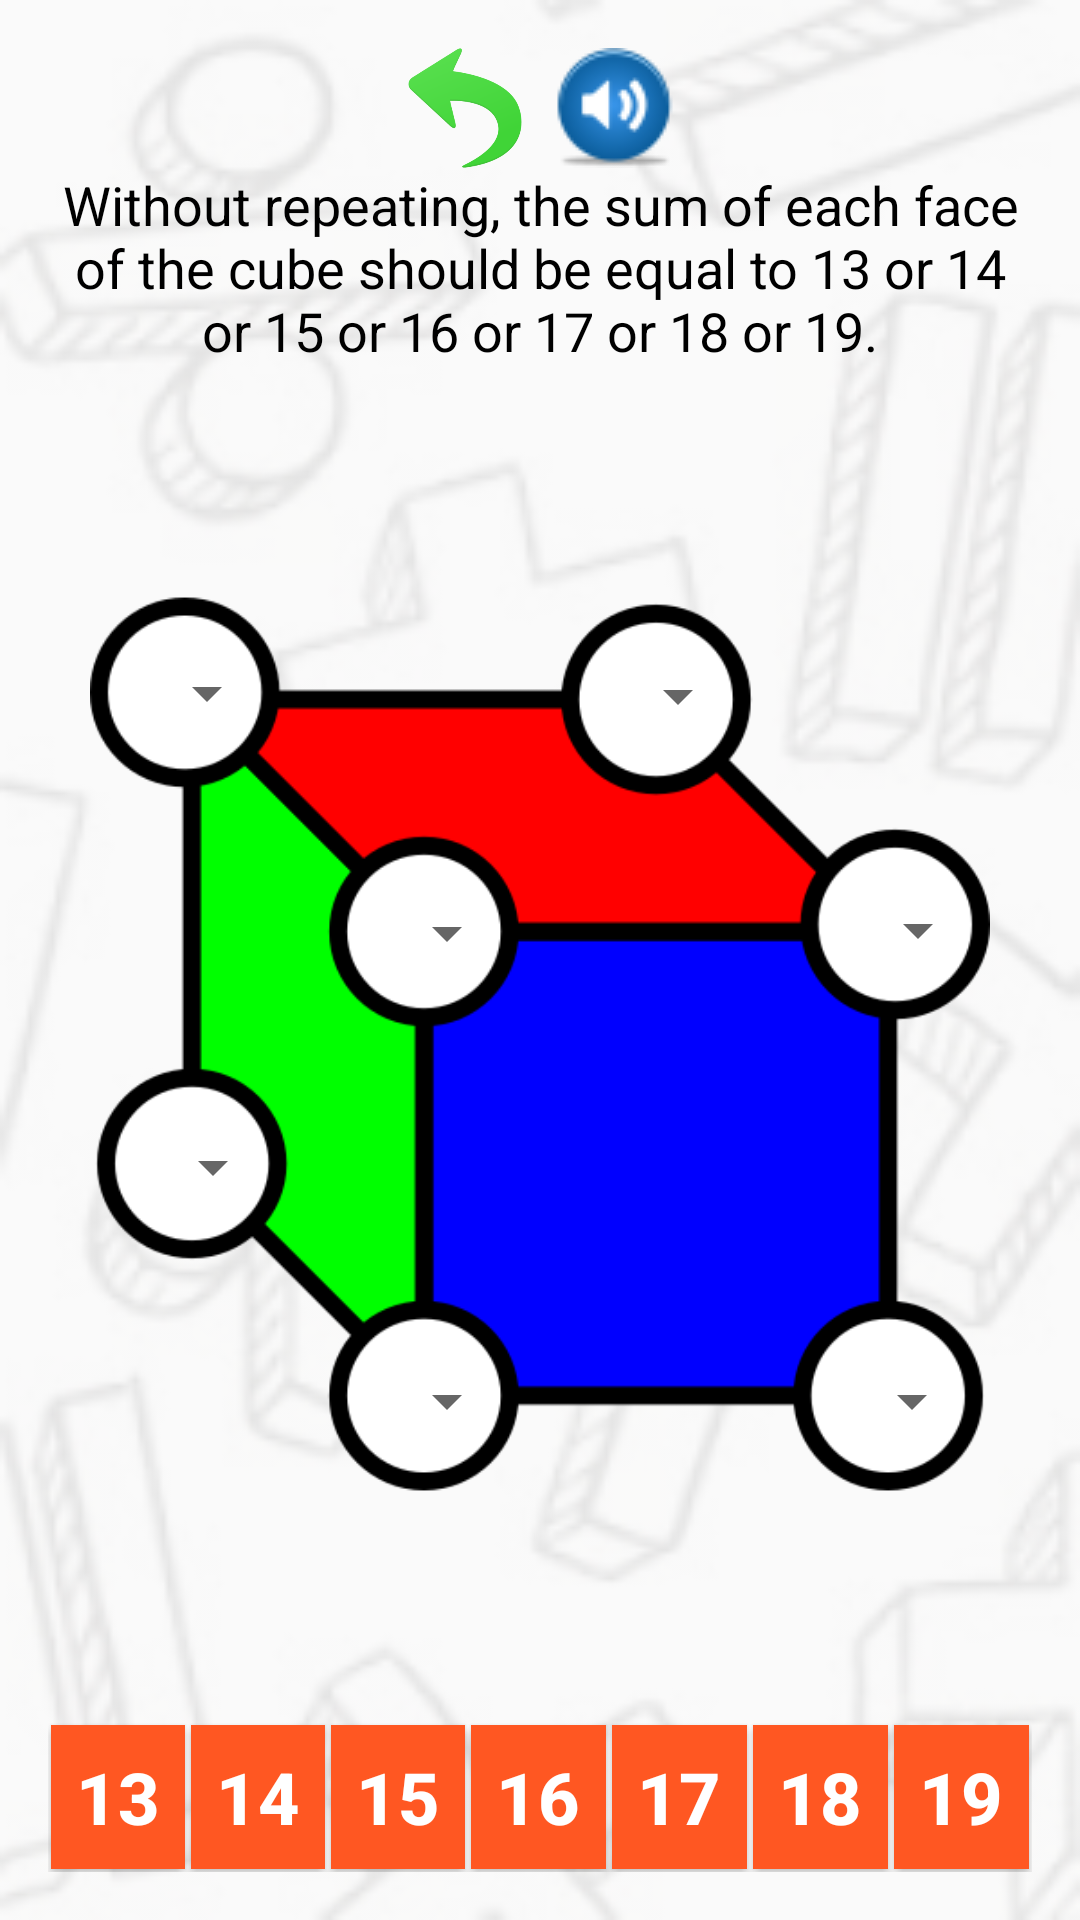

Point at icon controls on the screen. Image size 1080px x 1920px, points as (x,y).
som: (614,107)
voltar: (465,108)
